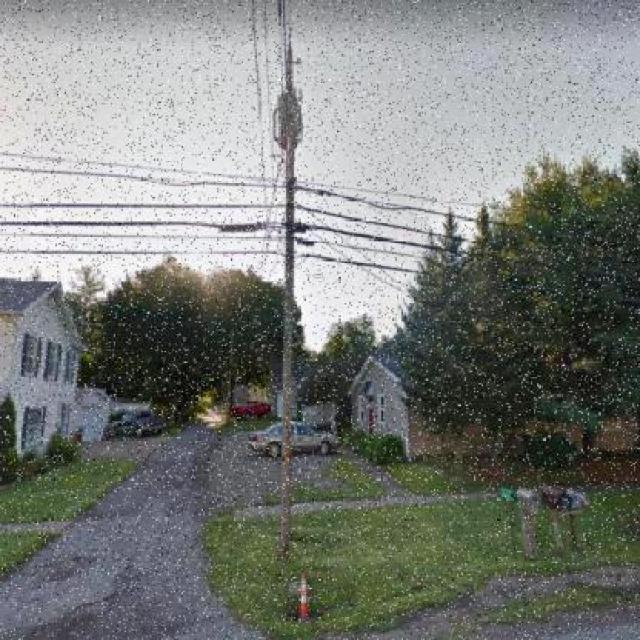pole: (276, 47, 295, 557)
transformer: (277, 92, 303, 147)
wire: (0, 152, 288, 183), (295, 187, 480, 223), (0, 166, 287, 189), (296, 180, 487, 212), (294, 203, 454, 240), (297, 224, 449, 250), (251, 1, 268, 225), (296, 238, 429, 261), (264, 0, 277, 224), (295, 255, 425, 275), (0, 231, 282, 239), (1, 251, 286, 258), (0, 222, 283, 228), (1, 204, 288, 209), (278, 0, 285, 98)
